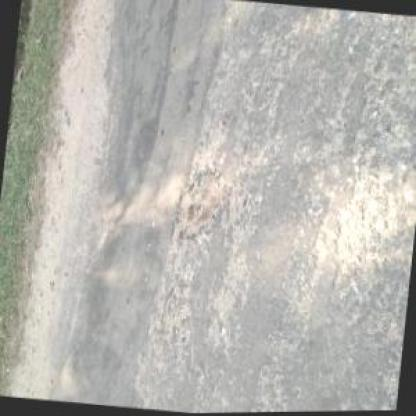pothole: (168, 164, 227, 245)
